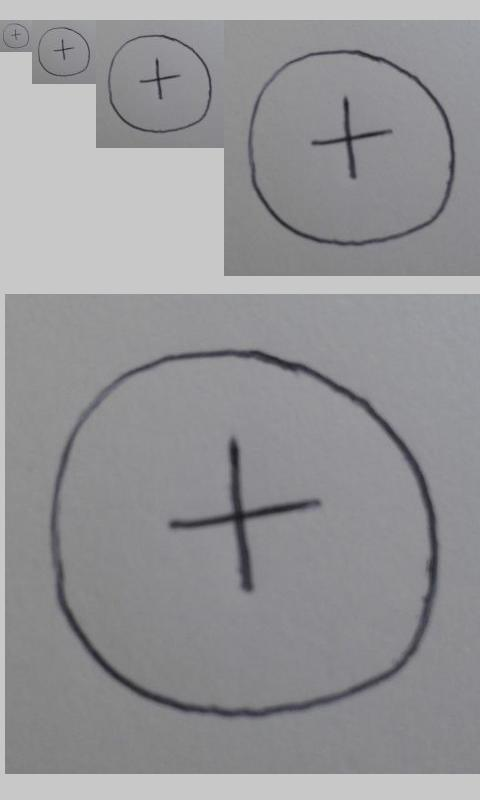button: (46, 345, 443, 722), (247, 47, 457, 248), (107, 34, 214, 134), (37, 26, 91, 77), (2, 23, 29, 49)
